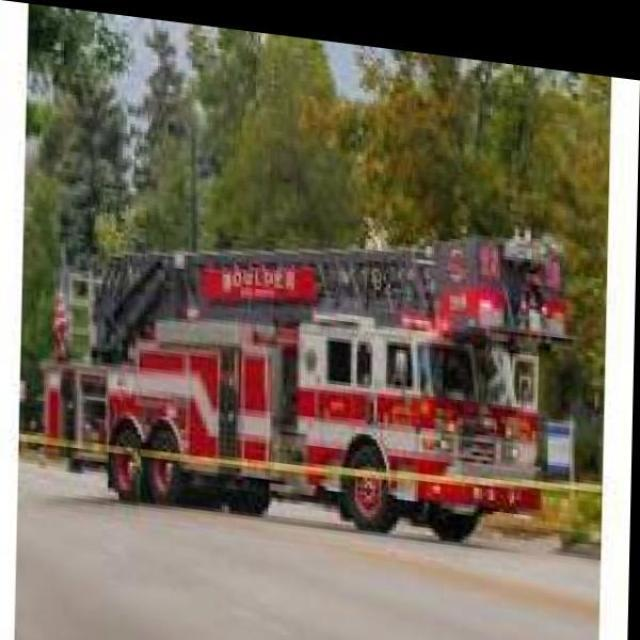emergency: (42, 244, 576, 542)
